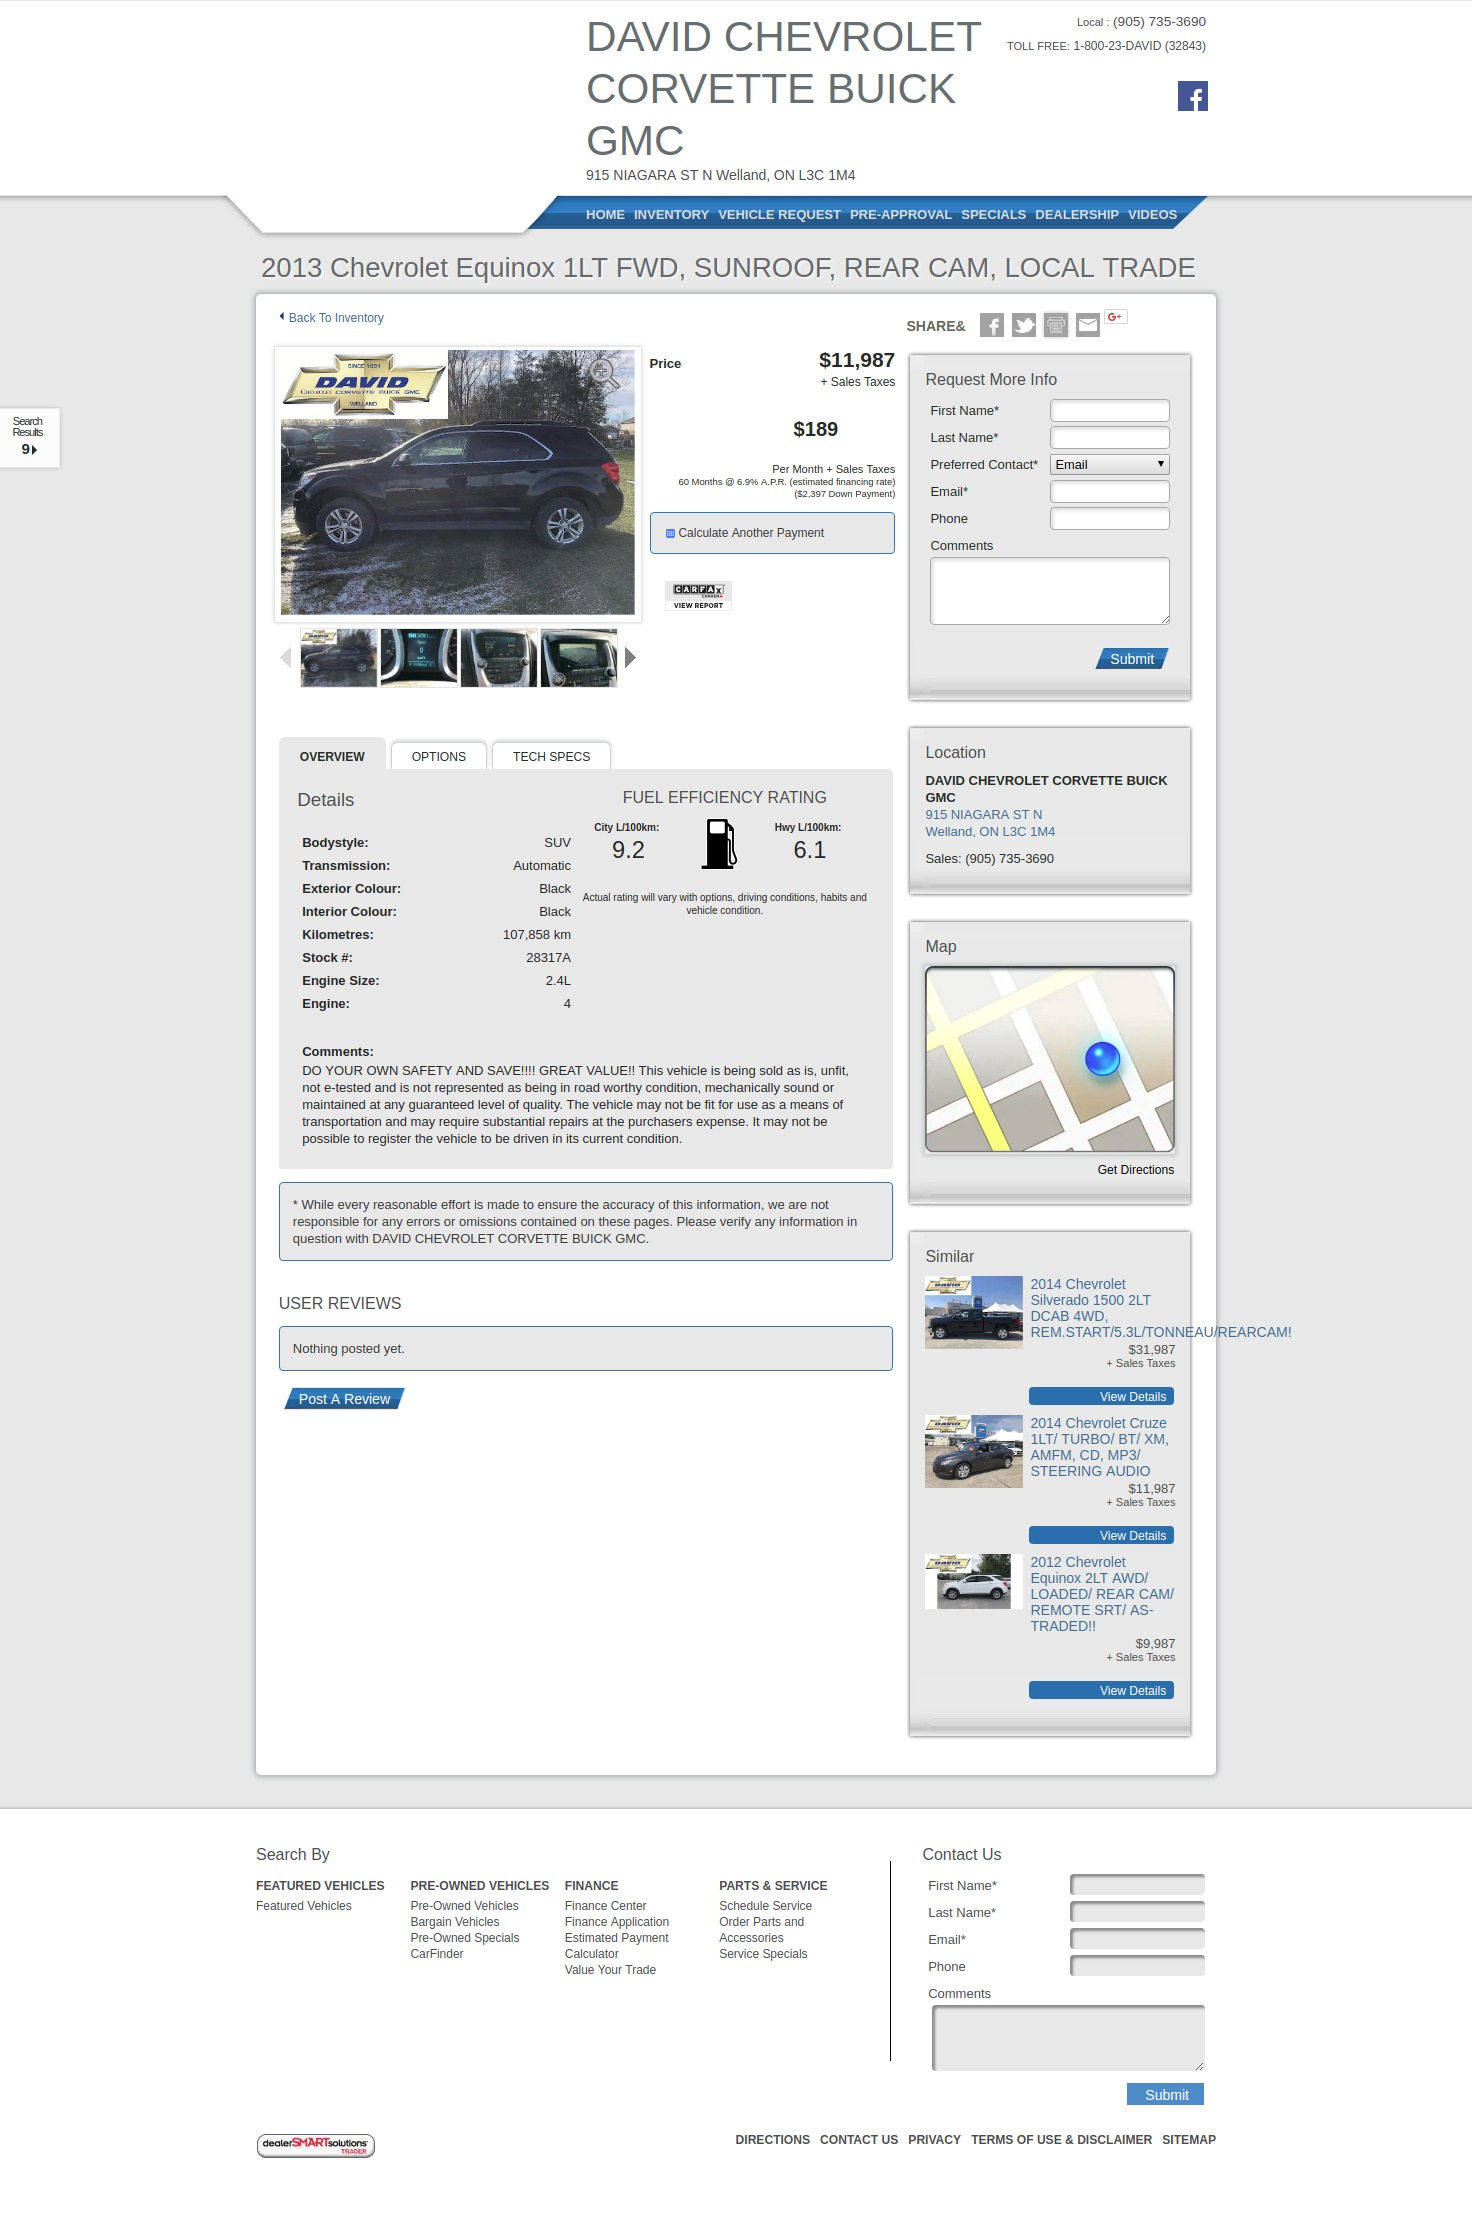car: (624, 646, 637, 672)
